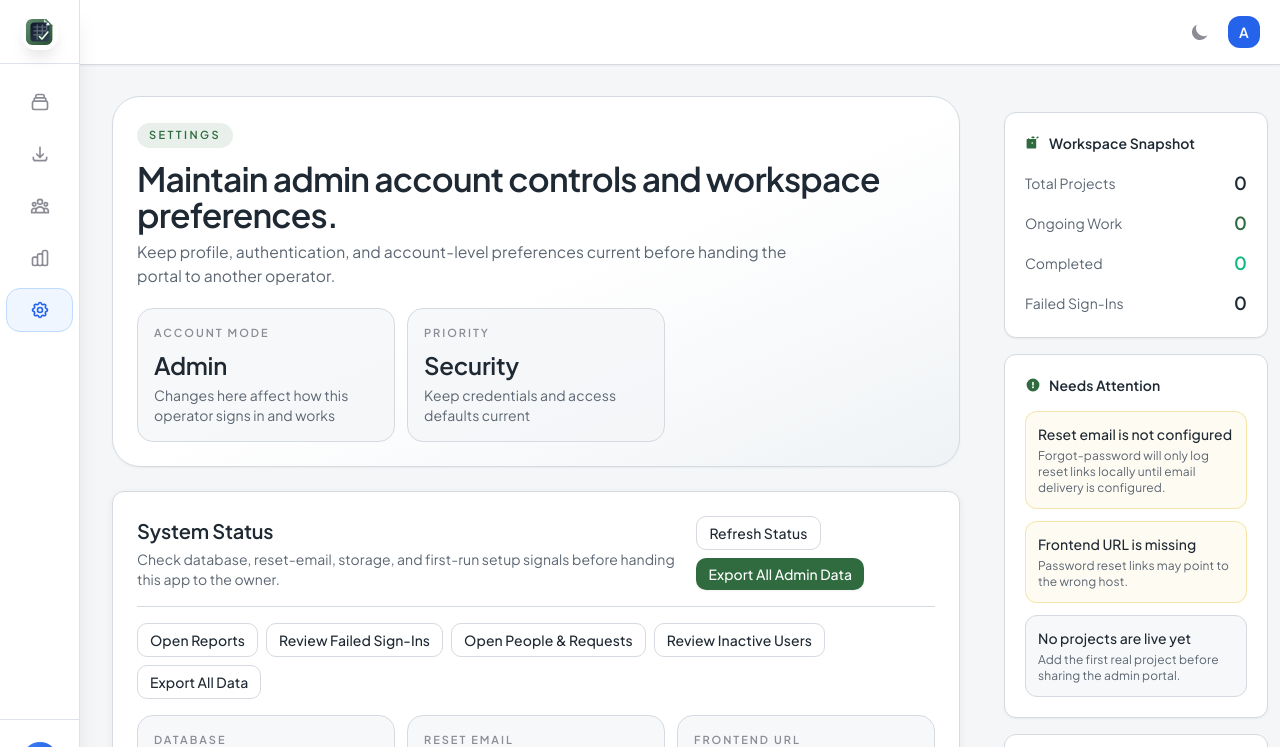
Scenario: AdminDashboard route shell › settings route exposes quick actions for reports and people workflows
Expected: the heading "System Status" is shown, [137,518,273,543]
Click the button "Open Reports" at (198, 640), box [137,623,258,657]
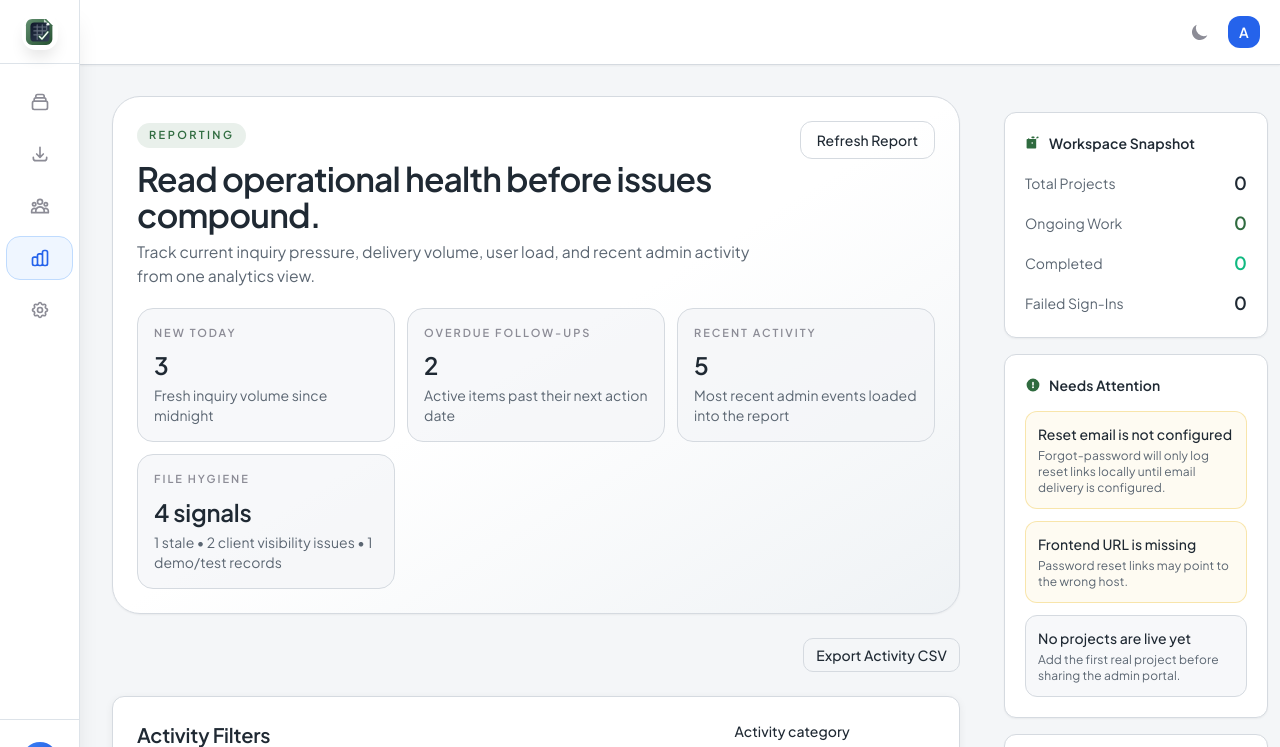
Expected: the heading "Read operational health before issues compound." is shown, [137,160,784,232]
